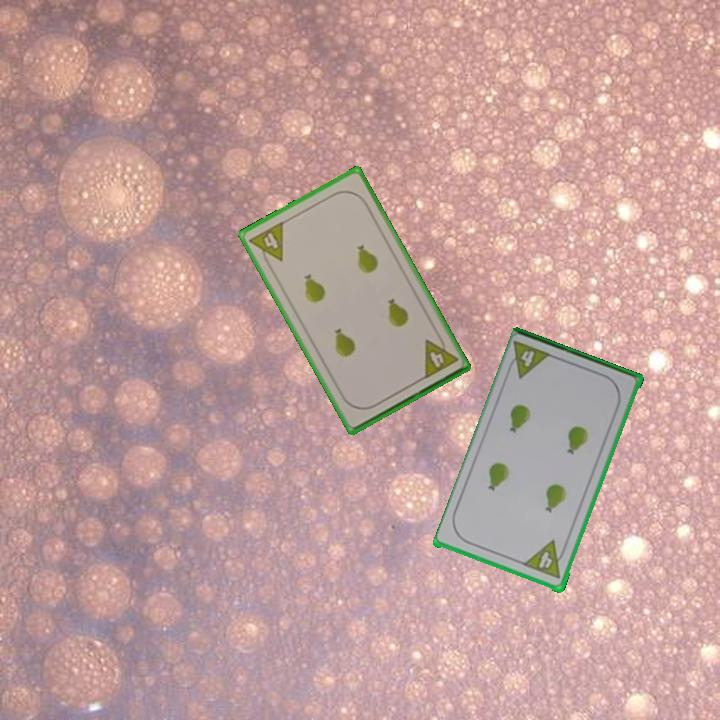4p: (503, 337, 555, 382), (521, 538, 570, 582), (245, 218, 286, 270), (420, 330, 461, 382)
